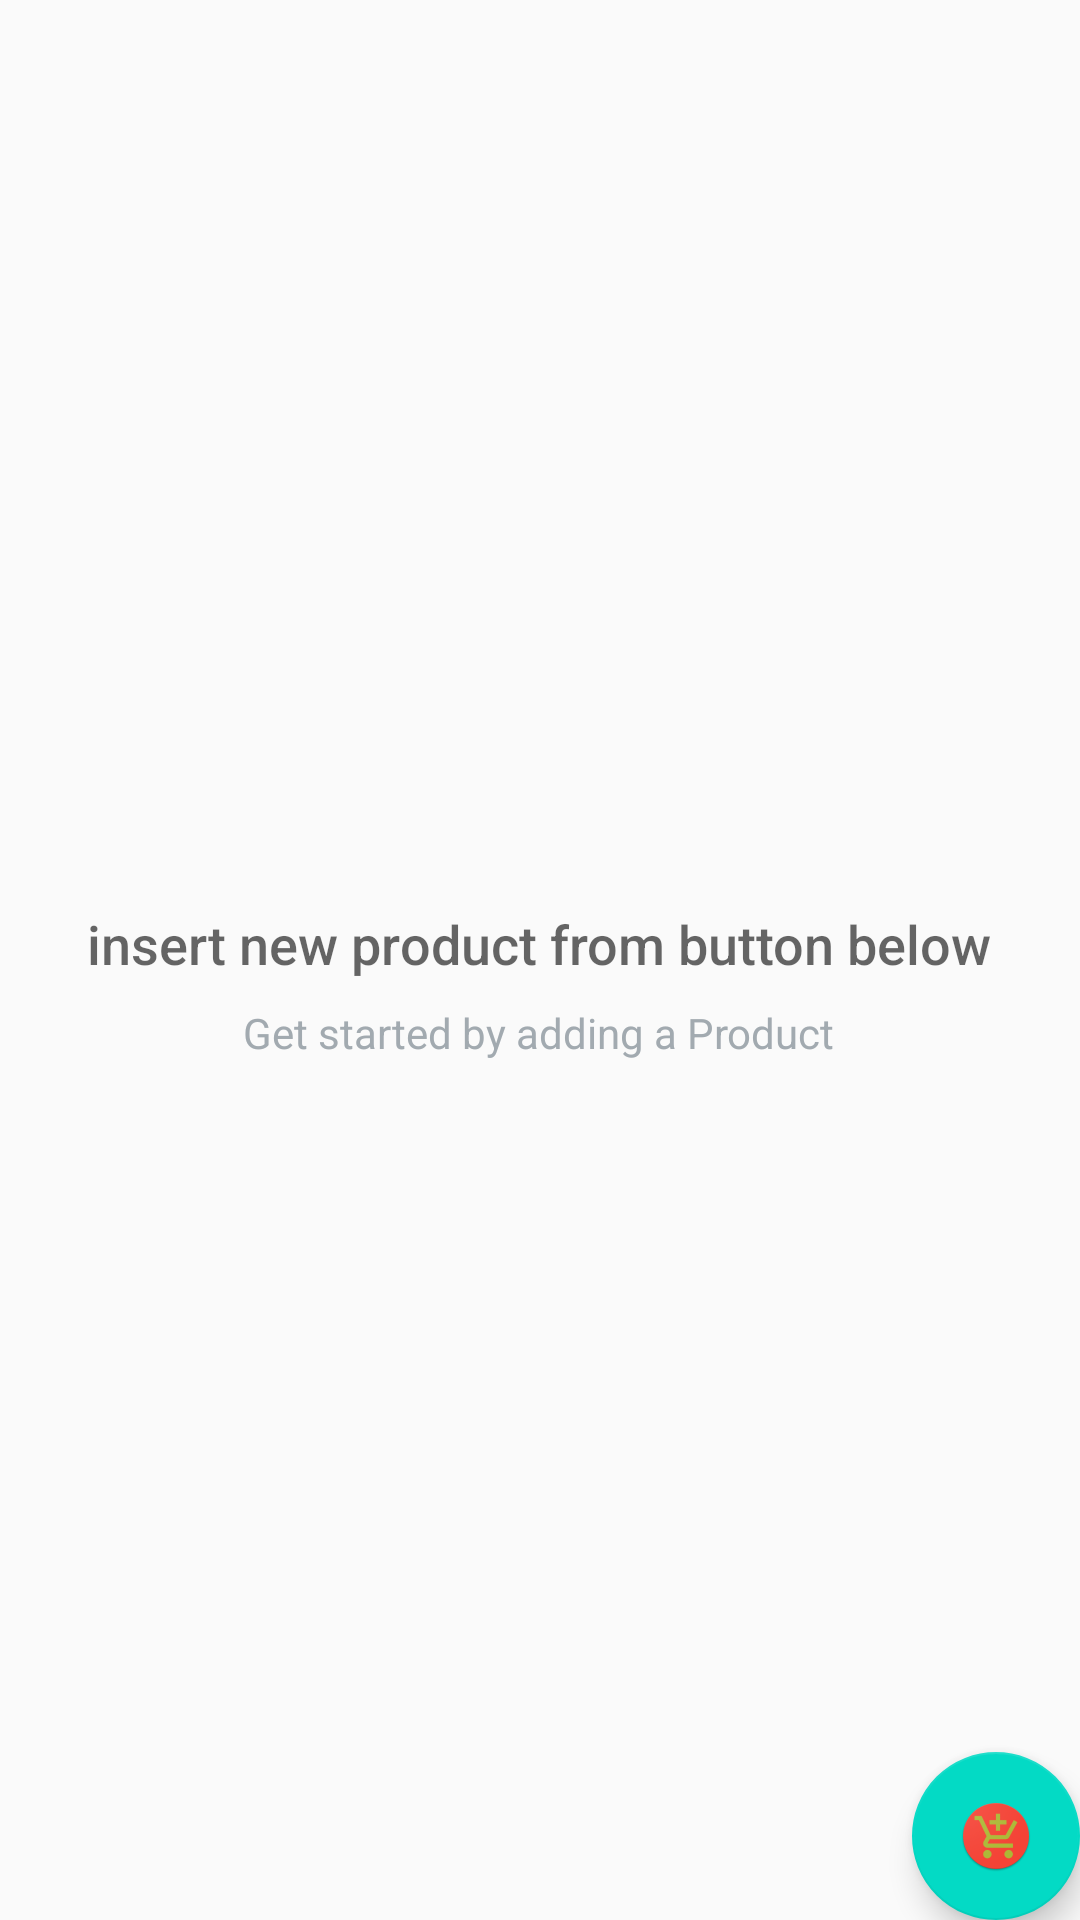

Named icons in this screenshot (1080 x 1920) and their bounding boxes, box(x1, y1, x2, y2):
add product: box(912, 1752, 1080, 1920)
